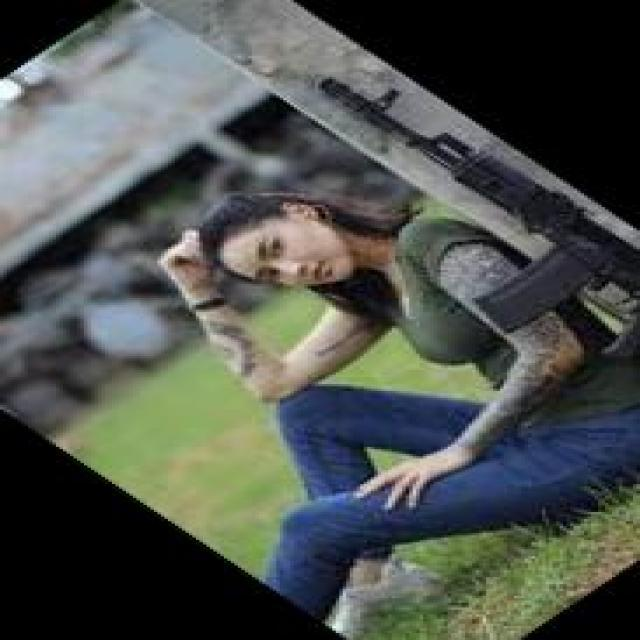weapon: (315, 77, 640, 360)
